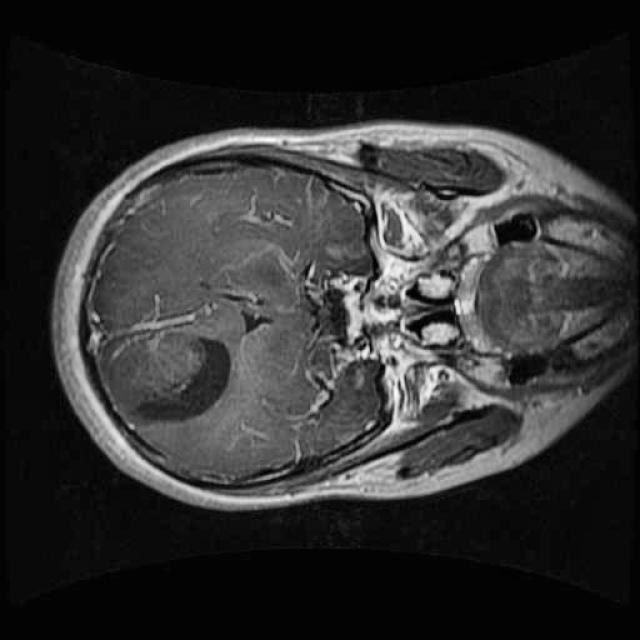Tumor: (102, 316, 246, 439)
